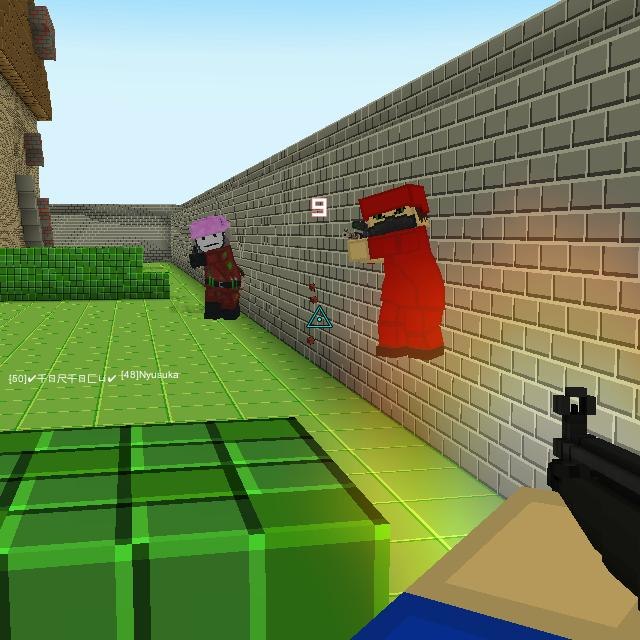enemy: (344, 179, 445, 360), (189, 213, 244, 321)
